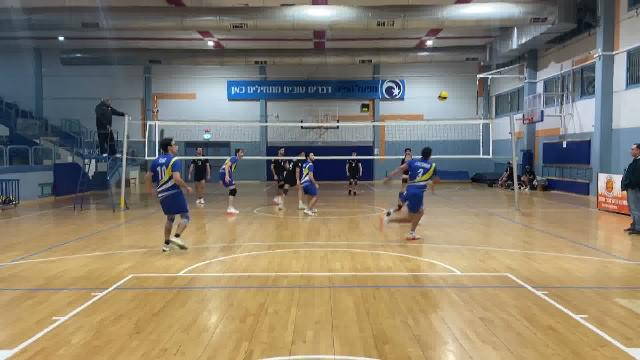ball: (436, 89, 448, 103)
